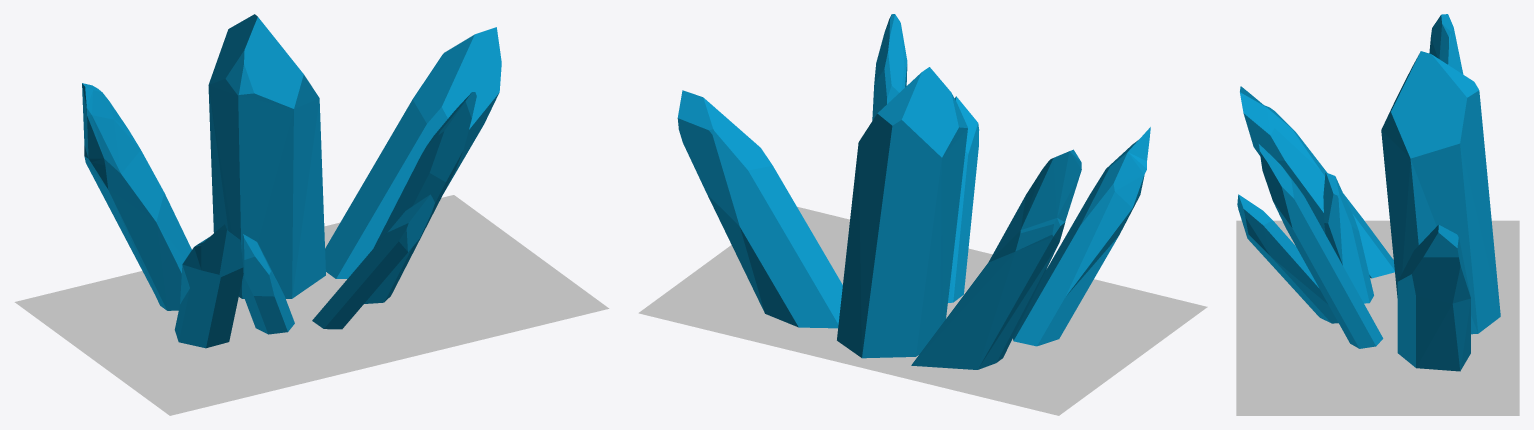
File: Crystal.dae
3 views of the same model, side by side, from view 1: azimuth 30°, elevation 25°; view 2: azimuth 150°, elevation 25°; view 3: azimuth 270°, elevation 25° (orthographic). The views are drawn at different scales.
Visible parts, largest first — view 1: Plane_001; view 2: Plane_001; view 3: Plane_001.
Part boxes in pixels (x1,y1,x2,y2): Plane_001: (14,14,609,415); Plane_001: (638,14,1207,415); Plane_001: (1236,14,1519,415).
Size of the model in its own units: 8.41 by 5.15 by 5.1.
